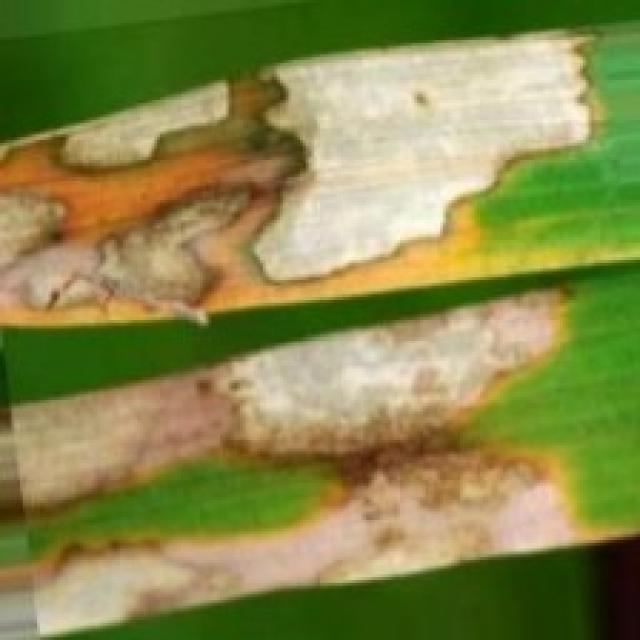Bacterial_Blight: (0, 271, 597, 524), (0, 430, 600, 640), (250, 23, 623, 306), (0, 63, 239, 176)
